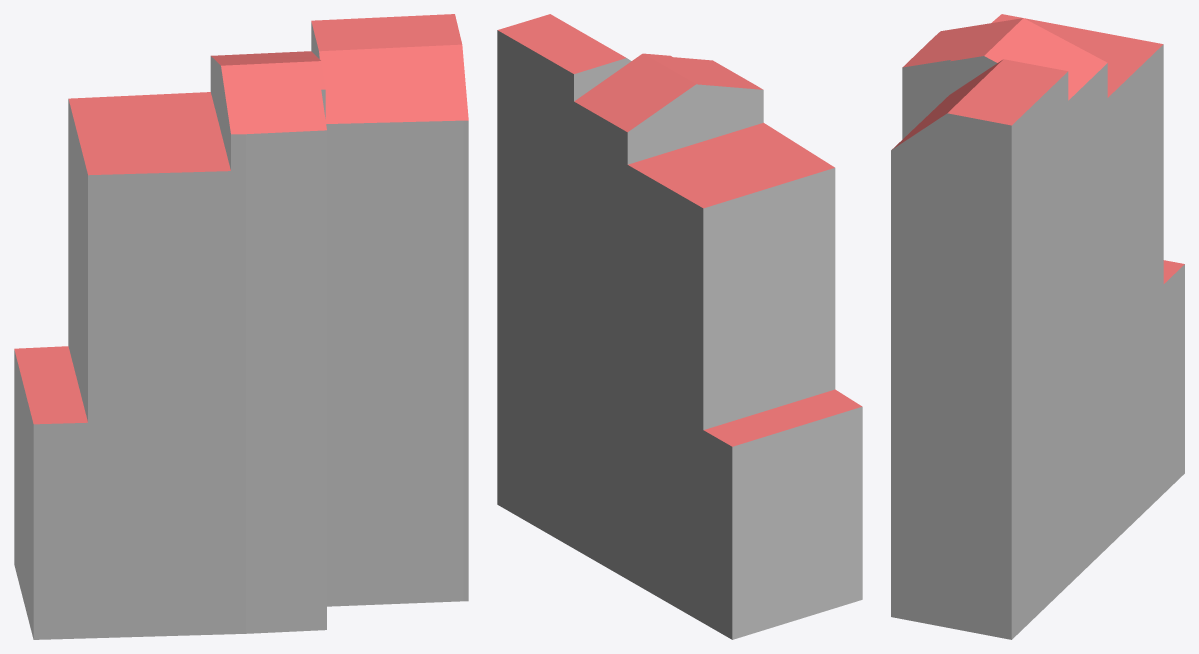
Rendered from DEBY_LOD2_4907177.gltf.
The picture shows the model from 3 angles, left to right: view 1: azimuth 30°, elevation 25°; view 2: azimuth 150°, elevation 25°; view 3: azimuth 270°, elevation 25°; orthographic projection. The views are drawn at different scales.
Visible parts, largest first — view 1: Z_UP; view 2: Z_UP; view 3: Z_UP.
Boxes of the visible parts, x1=… form: Z_UP: x1=14, y1=14, x2=468, y2=639; Z_UP: x1=497, y1=14, x2=862, y2=639; Z_UP: x1=891, y1=14, x2=1184, y2=639.
Bounding box in the file's own units: 17.12 × 20.91 × 10.83.
